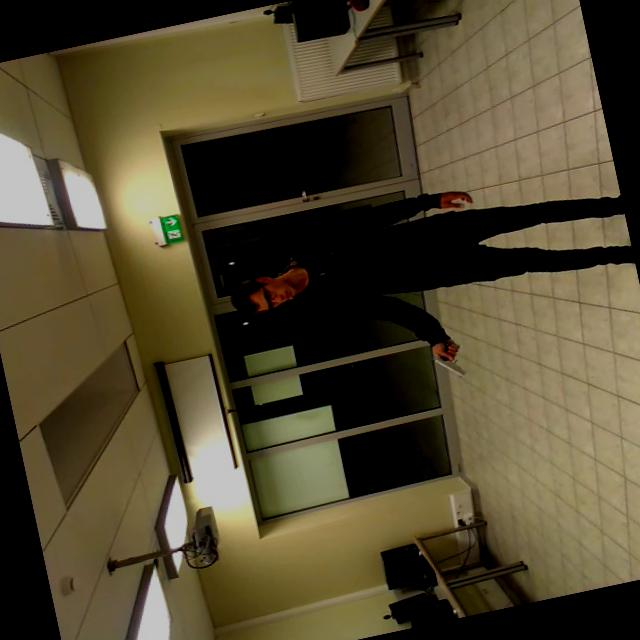handgun: (426, 330, 480, 384)
